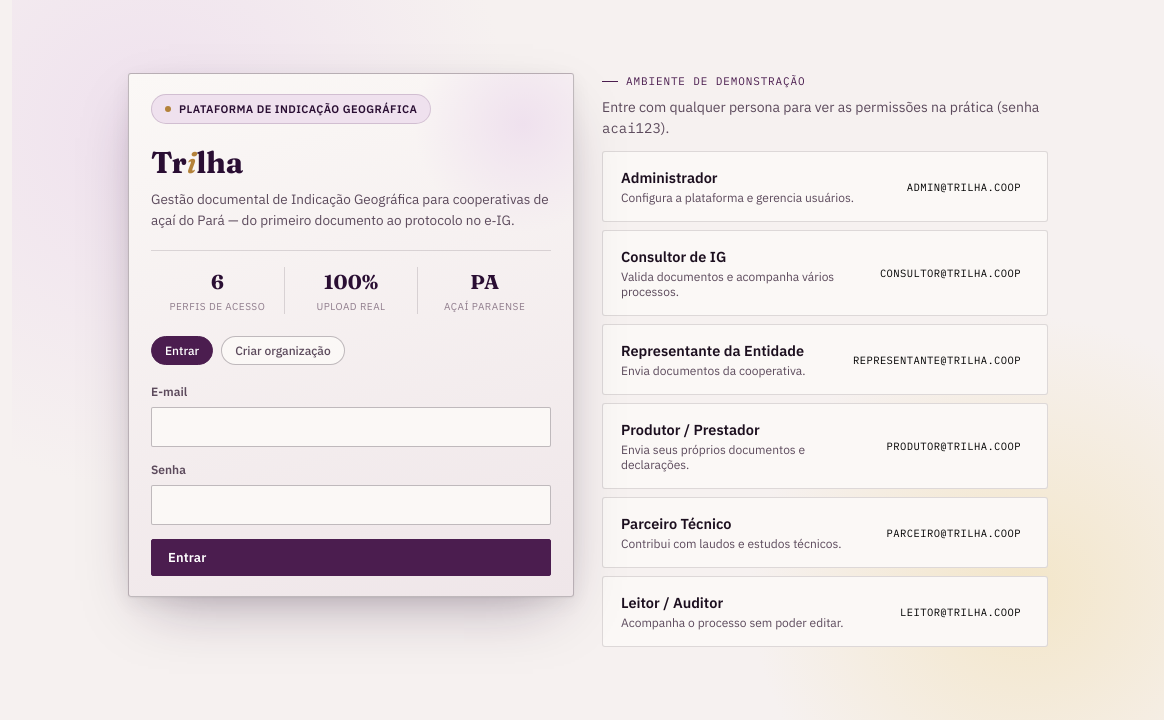
Test: Autenticação › login por atalho de persona carrega o dashboard
Click the text "admin@trilha.coop": (964, 187) [899, 177, 1029, 197]
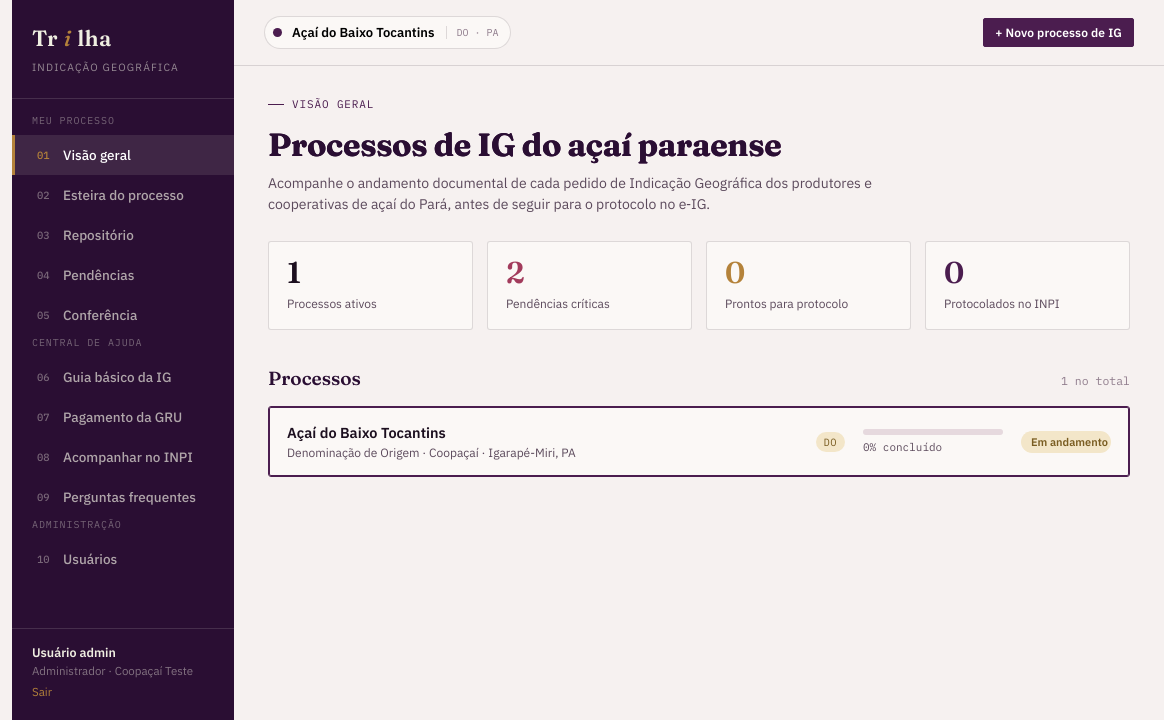
Now the heading "Processos de IG do açaí paraense" is shown, box [268, 120, 1130, 168]
